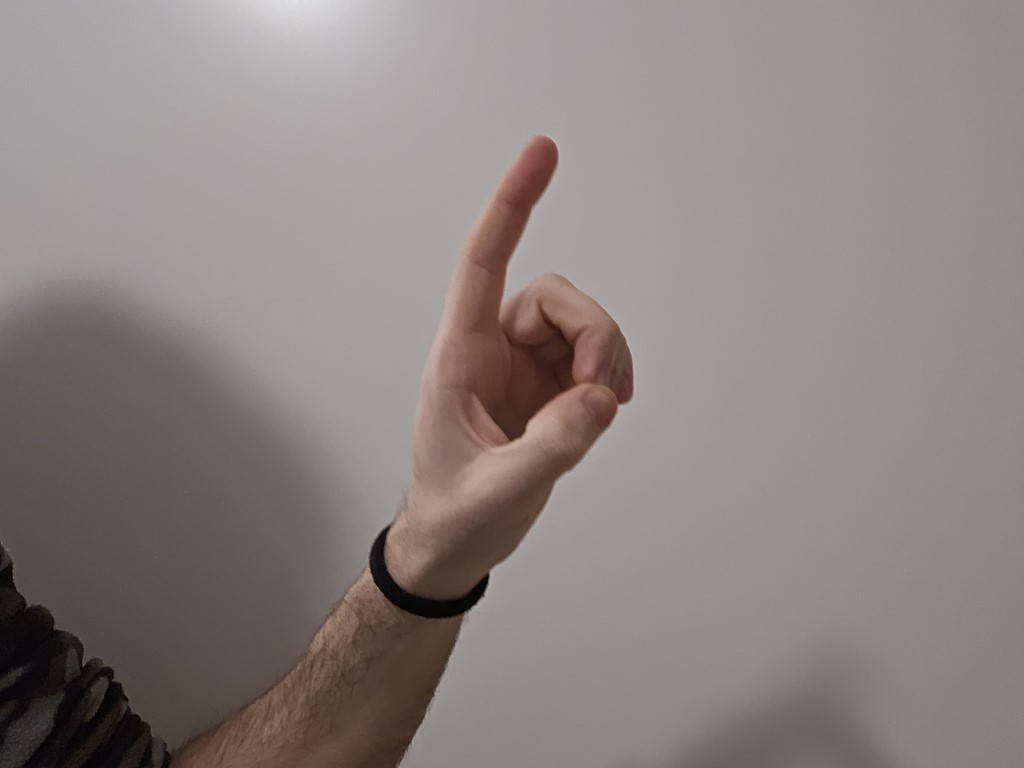d: (355, 119, 663, 579)
